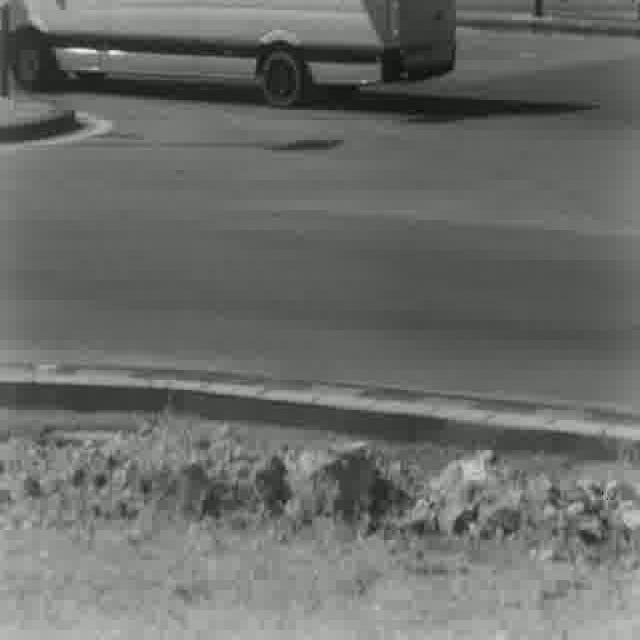Car: (0, 0, 454, 105)
